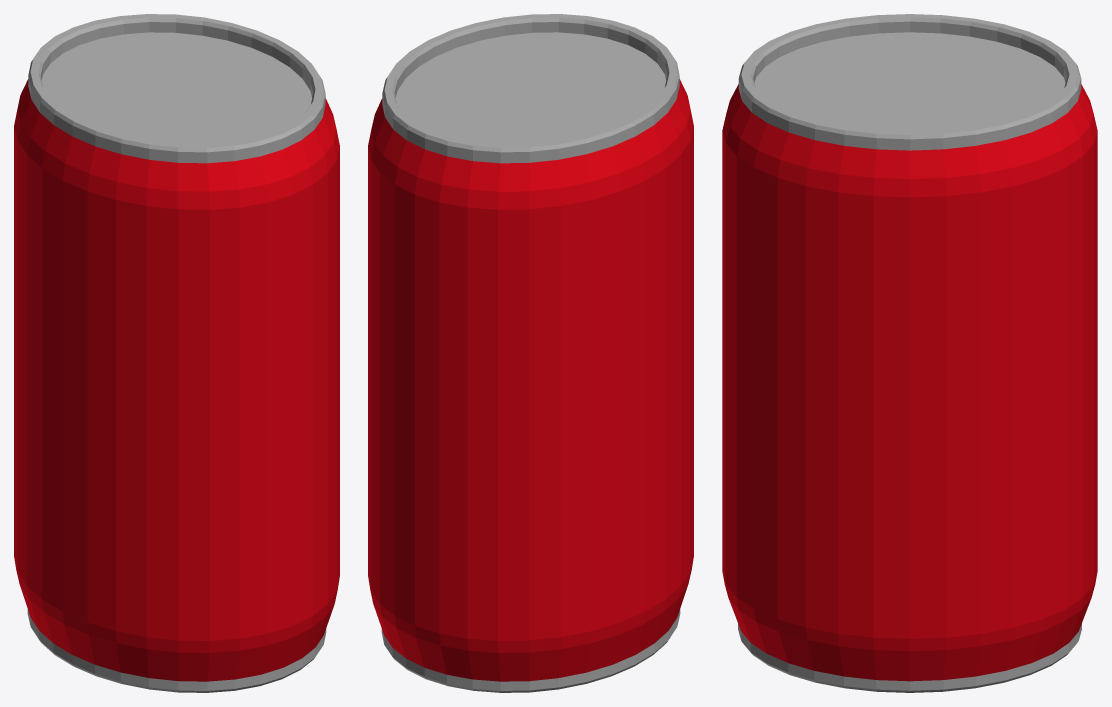
Rendered from Lata.fbx.
The picture shows the model from 3 angles, left to right: view 1: azimuth 30°, elevation 25°; view 2: azimuth 150°, elevation 25°; view 3: azimuth 270°, elevation 25°; orthographic projection. The views are drawn at different scales.
Visible parts, largest first — view 1: Lata; view 2: Lata; view 3: Lata.
Boxes of the visible parts, x1,y1,x2,y2 form: Lata: [14, 14, 339, 692]; Lata: [368, 14, 693, 692]; Lata: [722, 14, 1097, 692].
Bounding box in the file's own units: 164 × 317 × 193.
